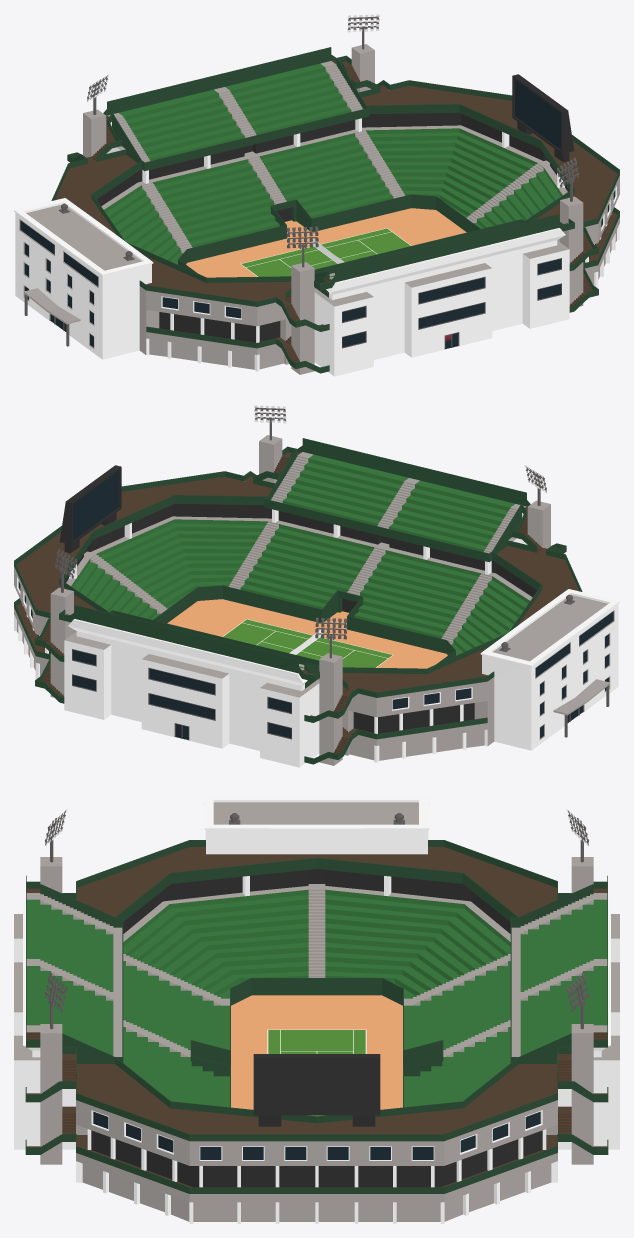
Rendered from building-stadium.glb.
The picture shows the model from 3 angles, top to bottom: view 1: azimuth 30°, elevation 25°; view 2: azimuth 150°, elevation 25°; view 3: azimuth 270°, elevation 25°; orthographic projection. The views are drawn at different scales.
Visible parts, largest first — view 1: building-stadium; view 2: building-stadium; view 3: building-stadium.
Boxes of the visible parts, x1=… form: building-stadium: x1=14, y1=14, x2=619, y2=376; building-stadium: x1=14, y1=405, x2=619, y2=767; building-stadium: x1=14, y1=796, x2=619, y2=1223.
Size of the model in its own units: 84.77 by 21.59 by 66.49.
Materials: 1 (1 with a texture image).
